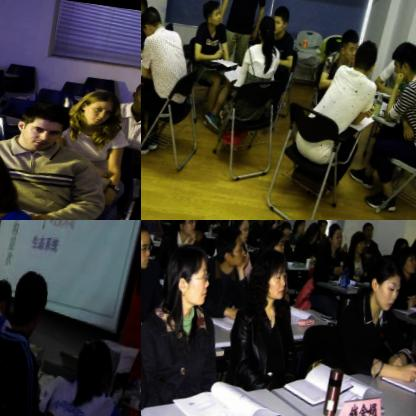head: (159, 244, 218, 315), (8, 266, 51, 341), (72, 334, 122, 398), (244, 244, 293, 306), (10, 100, 66, 152), (368, 254, 405, 311), (73, 83, 119, 128), (213, 221, 252, 271), (387, 38, 416, 83), (257, 223, 288, 264), (351, 39, 382, 78), (336, 27, 362, 65), (141, 2, 168, 38), (141, 220, 159, 272), (197, 0, 226, 28), (0, 273, 15, 315), (255, 14, 276, 42), (271, 5, 290, 34), (397, 245, 416, 274), (175, 220, 202, 238), (348, 229, 367, 254), (327, 224, 346, 248), (190, 220, 209, 244), (303, 220, 322, 243), (128, 77, 141, 109), (406, 39, 416, 80), (232, 220, 252, 240), (393, 235, 410, 258), (277, 220, 294, 239), (362, 220, 376, 241), (292, 220, 308, 237), (315, 220, 329, 234), (411, 232, 416, 259), (276, 220, 289, 226)
